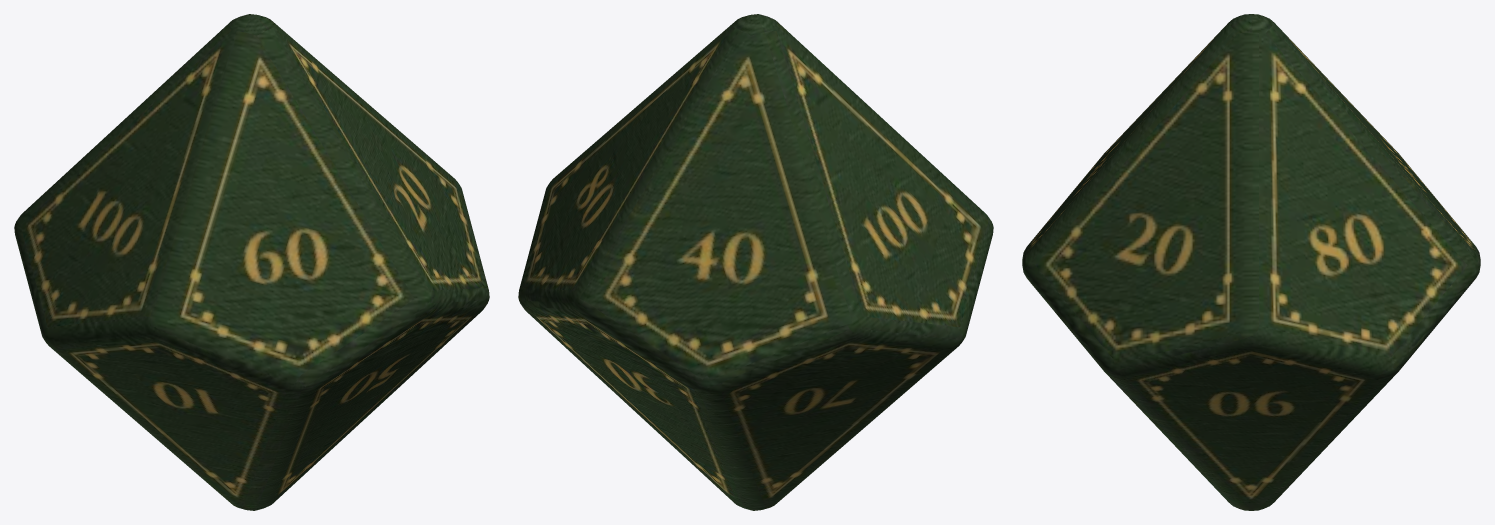
Rendered from bosmer-d100.glb.
3 views of the same model, side by side, from view 1: azimuth 30°, elevation 25°; view 2: azimuth 150°, elevation 25°; view 3: azimuth 270°, elevation 25° (orthographic).
Parts seen in each view (by area): view 1: bosmer_d100; view 2: bosmer_d100; view 3: bosmer_d100.
Part boxes in pixels (bbox=[...]): bosmer_d100: bbox=[14, 14, 489, 510]; bosmer_d100: bbox=[518, 14, 993, 510]; bosmer_d100: bbox=[1022, 14, 1480, 510].
Bounding box in the file's own units: 1.66 × 1.91 × 1.59.
1 material, 1 textured.
